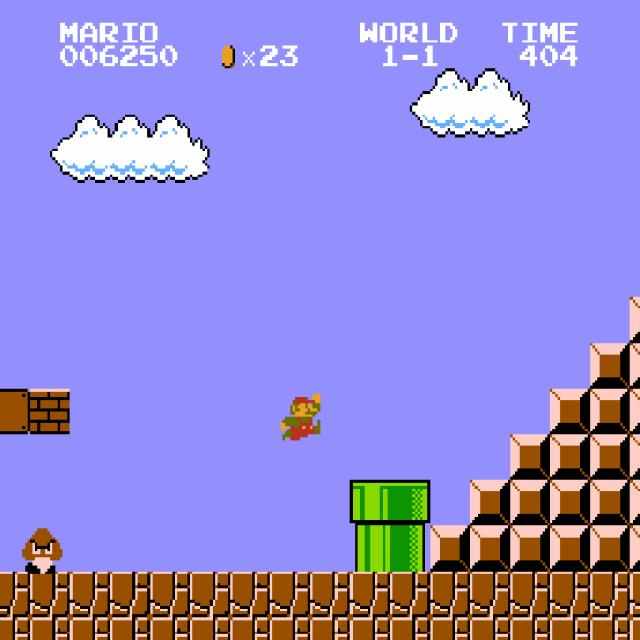brick_block: (30, 389, 70, 434)
empty_block: (0, 389, 30, 434)
goomba: (20, 526, 62, 574)
hard_block: (470, 480, 510, 526), (510, 434, 550, 480), (510, 480, 550, 526), (550, 434, 590, 480), (550, 480, 590, 526), (590, 434, 630, 480), (590, 480, 630, 526), (430, 526, 470, 571), (470, 526, 510, 571), (510, 526, 550, 571), (550, 389, 590, 434), (550, 526, 590, 571), (590, 343, 630, 388), (590, 389, 630, 434), (590, 526, 630, 571), (629, 342, 640, 388), (629, 388, 640, 434), (629, 525, 640, 571), (629, 297, 640, 342), (629, 434, 640, 479), (629, 480, 640, 525)
little_mario: (277, 391, 320, 440)
pipe: (350, 526, 390, 571), (390, 526, 430, 571)
pipe_head: (350, 480, 390, 526), (390, 480, 430, 526)
undestructible_block: (30, 572, 70, 617), (70, 572, 110, 617), (110, 572, 150, 617), (150, 572, 190, 617), (190, 572, 230, 617), (230, 572, 270, 617), (270, 572, 310, 617), (310, 572, 350, 617), (350, 572, 390, 617), (390, 572, 430, 617), (430, 572, 470, 617), (470, 572, 510, 617), (510, 572, 550, 617), (550, 572, 590, 617), (590, 572, 630, 617), (0, 572, 30, 617), (30, 617, 70, 640), (70, 617, 110, 640), (110, 617, 150, 640), (150, 617, 190, 640), (190, 617, 230, 640), (230, 617, 270, 640), (270, 617, 310, 640), (310, 617, 350, 640), (350, 617, 390, 640), (390, 617, 430, 640), (430, 617, 470, 640), (470, 617, 510, 640), (510, 617, 550, 640), (550, 617, 590, 640), (590, 617, 630, 640), (0, 617, 30, 640), (629, 571, 640, 617), (629, 617, 640, 639)
